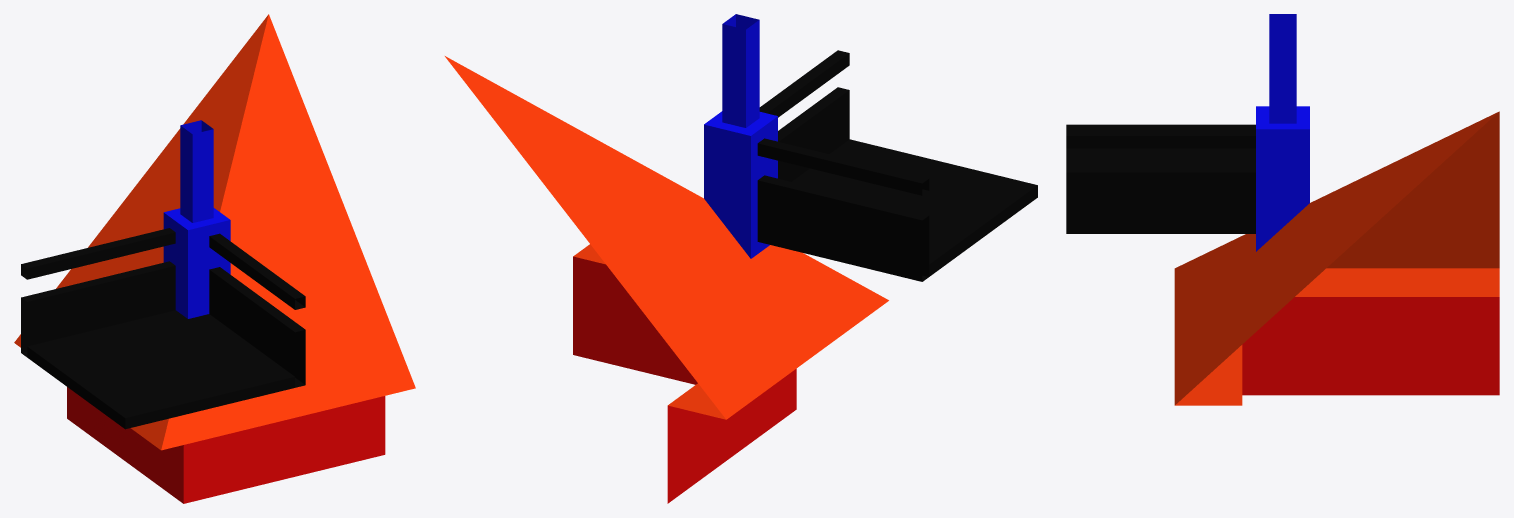
Rendered from None_S_E_E_E_E_P_E_E_BigStrut.fbx.
3 views of the same model, side by side, from view 1: azimuth 30°, elevation 25°; view 2: azimuth 150°, elevation 25°; view 3: azimuth 270°, elevation 25° (orthographic). The views are drawn at different scales.
Visible parts, largest first — view 1: None_S_E_E_E_E_P_E_E_BigStrut; view 2: None_S_E_E_E_E_P_E_E_BigStrut; view 3: None_S_E_E_E_E_P_E_E_BigStrut.
Part boxes in pixels (x1,y1,x2,y2): None_S_E_E_E_E_P_E_E_BigStrut: (14, 14, 415, 503); None_S_E_E_E_E_P_E_E_BigStrut: (445, 14, 1037, 503); None_S_E_E_E_E_P_E_E_BigStrut: (1066, 14, 1499, 405).
Bounding box in the file's own units: 100 × 100 × 100.
